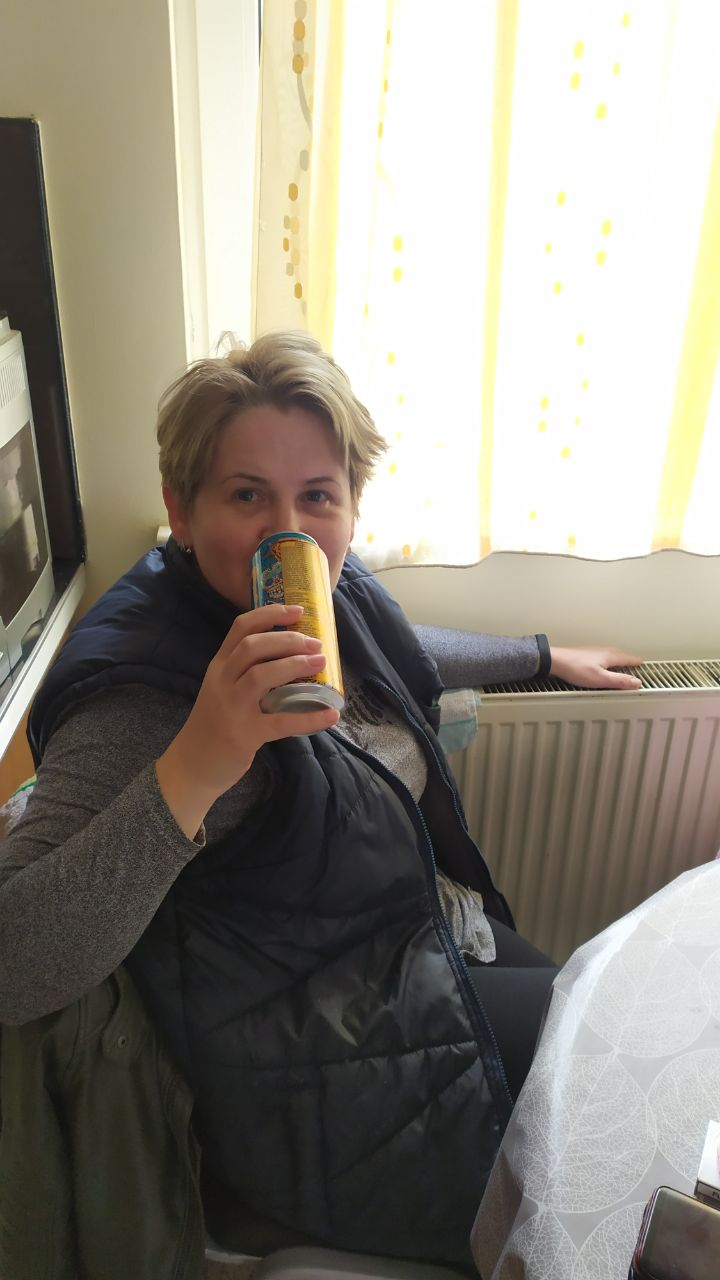Can: (247, 536, 352, 728)
